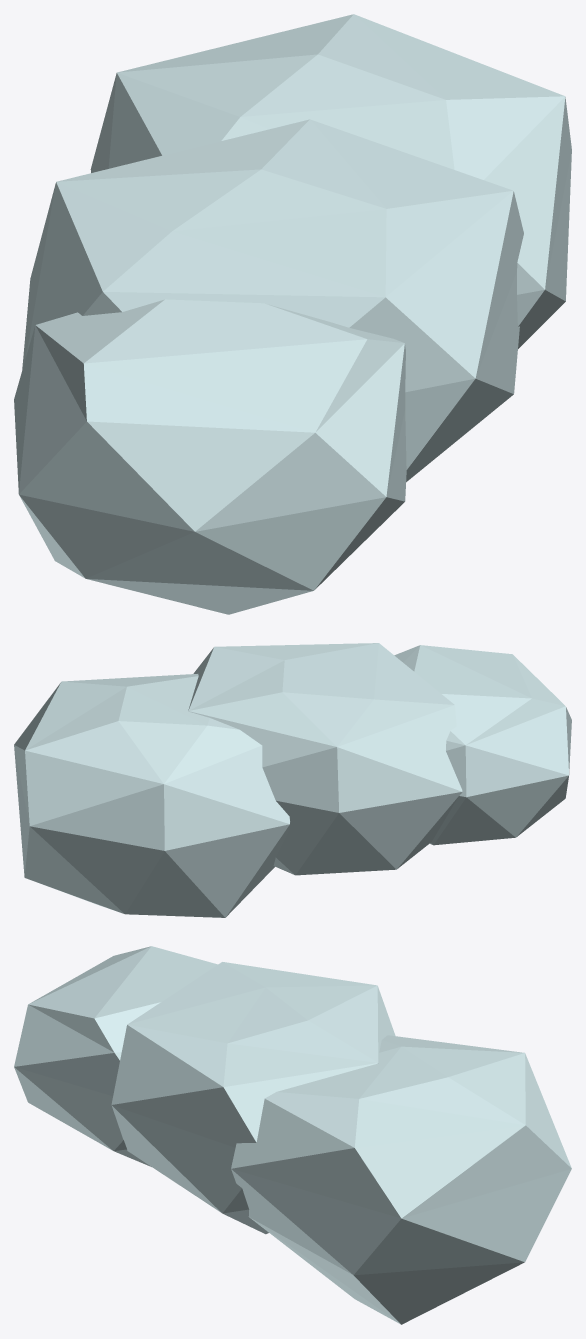
The model's file is longcloud.dae.
The picture shows the model from 3 angles, top to bottom: view 1: azimuth 30°, elevation 25°; view 2: azimuth 150°, elevation 25°; view 3: azimuth 270°, elevation 25°; orthographic projection. The views are drawn at different scales.
Visible parts, largest first — view 1: Icosphere; view 2: Icosphere; view 3: Icosphere.
Part boxes in pixels (bbox=[...]): Icosphere: bbox=[14, 14, 571, 614]; Icosphere: bbox=[14, 643, 571, 917]; Icosphere: bbox=[14, 946, 571, 1324].
Size of the model in its own units: 7.16 by 7.36 by 3.49.
